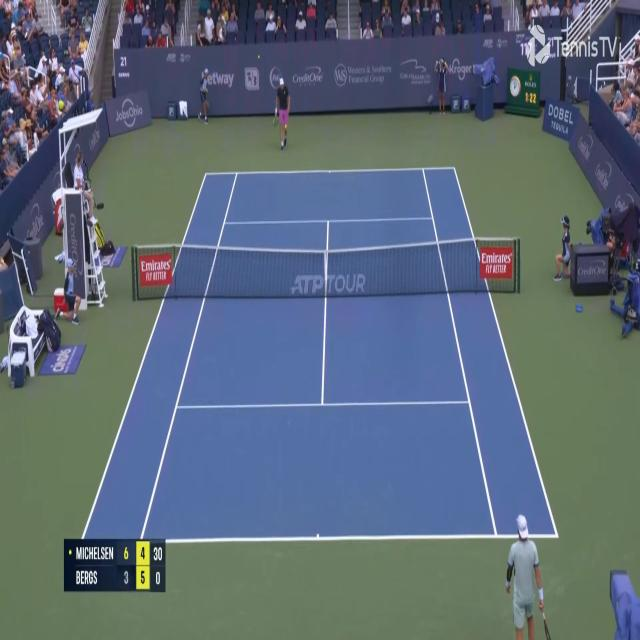tennis-player: (503, 510, 550, 640), (270, 76, 290, 152)
